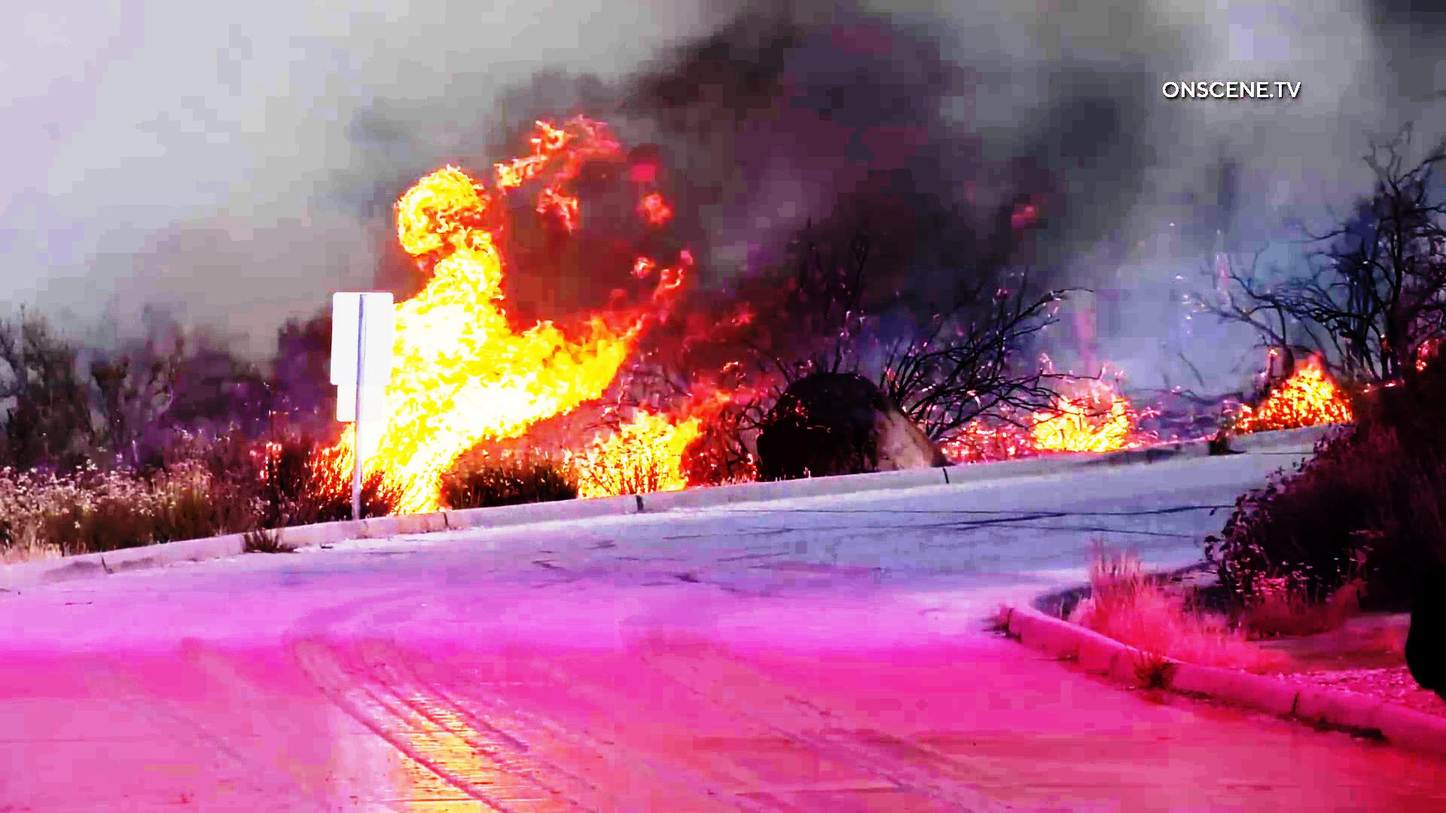fire: (328, 86, 636, 490), (995, 381, 1164, 463)
smoke: (659, 0, 1154, 318)
